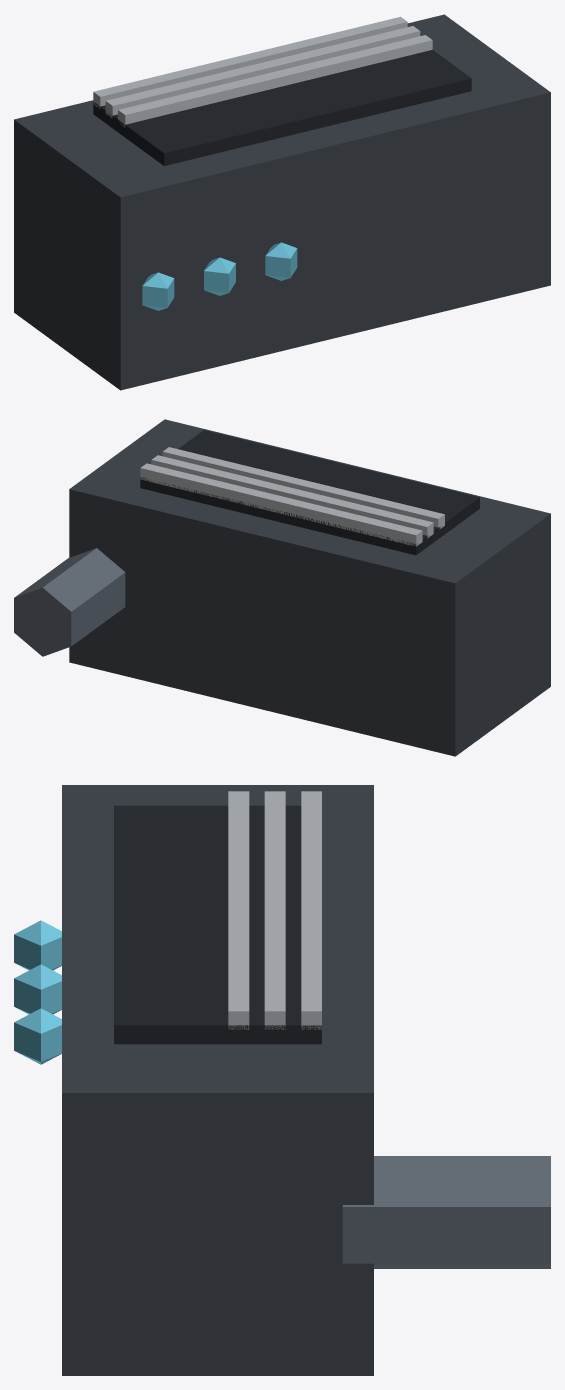
File: droid-vocoder-improved.glb
3 views of the same model, one above another, from view 1: azimuth 30°, elevation 25°; view 2: azimuth 150°, elevation 25°; view 3: azimuth 270°, elevation 25° (orthographic). The views are drawn at different scales.
Visible parts, largest first — view 1: m; view 2: m; view 3: m.
Part boxes in pixels (bbox=[...]): m: bbox=[14, 14, 550, 390]; m: bbox=[14, 419, 550, 756]; m: bbox=[14, 785, 550, 1375].
Size of the model in its own units: 0.1 by 0.0484 by 0.0735.
